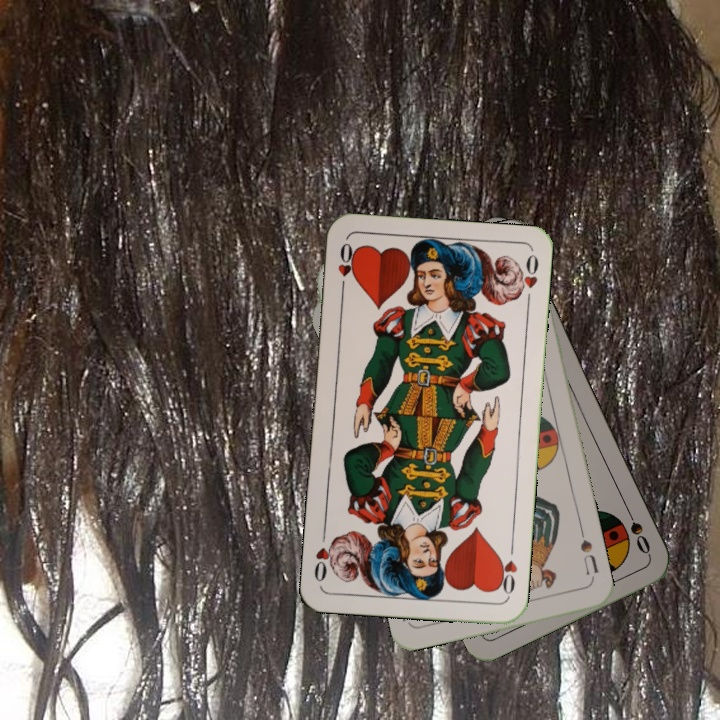HO: (493, 540, 520, 599), (333, 238, 358, 297)
SO: (621, 502, 653, 557)
SU: (576, 535, 601, 585)
